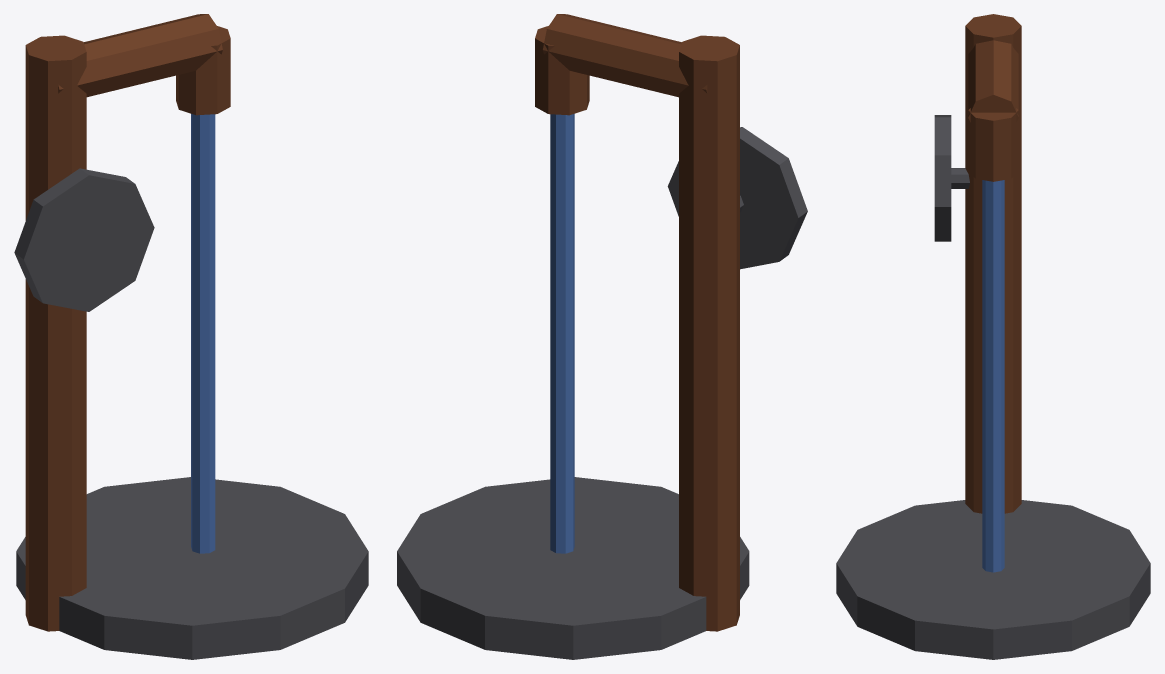
File: tap.glb
3 views of the same model, side by side, from view 1: azimuth 30°, elevation 25°; view 2: azimuth 150°, elevation 25°; view 3: azimuth 270°, elevation 25° (orthographic). The views are drawn at different scales.
Parts seen in each view (by area): view 1: tap; view 2: tap; view 3: tap.
Boxes of the visible parts, x1=… form: tap: x1=14, y1=14, x2=368, y2=659; tap: x1=397, y1=14, x2=807, y2=659; tap: x1=836, y1=14, x2=1150, y2=659.
Size of the model in its own units: 0.715 by 1.1 by 0.616.
